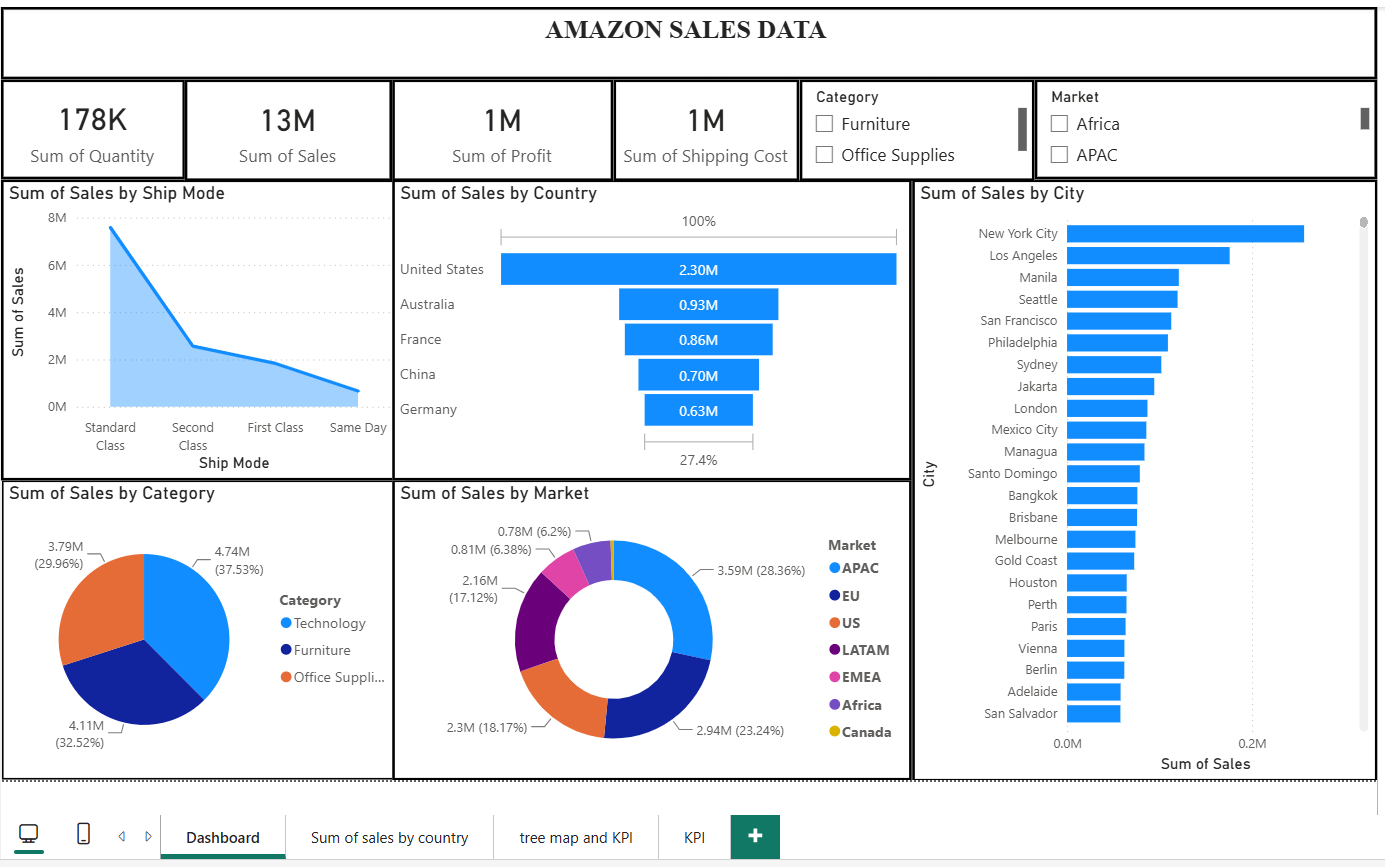

The page's visual inventory and layout, read from the dashboard file:
{"tool":"powerbi","page":{"name":"Page 1","canvas":[1280,720],"ordinal":0},"visuals":[{"type":"pieChart","fields":{"Category":["Orders.Category"],"Y":["Sum(Orders.Sales)"]},"box":[0,440,375.7,280],"z":0},{"type":"donutChart","fields":{"Category":["Orders.Market"],"Y":["Sum(Orders.Sales)"]},"box":[364.3,440,482.9,280],"z":1000},{"type":"areaChart","fields":{"Category":["Orders.Ship Mode"],"Y":["Sum(Orders.Sales)"]},"box":[0,160,375.7,280],"z":2000},{"type":"clusteredBarChart","fields":{"Category":["Orders.City"],"Y":["Sum(Orders.Sales)"]},"box":[847.1,160,432.9,560],"z":3000},{"type":"funnel","fields":{"Category":["Orders.Country"],"Y":["Sum(Orders.Sales)"]},"box":[364.3,160,482.9,280],"z":4000},{"type":"textbox","box":[0,0,1280,67.1],"z":5000},{"type":"card","fields":{"Values":["Sum(Orders.Quantity)"]},"box":[0,67.1,171.4,92.9],"z":6000},{"type":"card","fields":{"Values":["Sum(Orders.Sales)"]},"box":[171.4,67.1,192.9,94.3],"z":7000},{"type":"card","fields":{"Values":["Sum(Orders.Profit)"]},"box":[364.3,67.1,205.7,94.3],"z":8000},{"type":"card","fields":{"Values":["Sum(Orders.Shipping Cost)"]},"box":[570,67.1,172.9,94.3],"z":9000},{"type":"slicer","fields":{"Values":["Orders.Market"]},"box":[961.4,67.1,318.6,92.9],"z":10000},{"type":"slicer","fields":{"Values":["Orders.Category"]},"box":[742.9,67.1,218.6,94.3],"z":10001}]}

Visuals, with their boxes in screenshot pixels (x1, y1, x2, y2):
pieChart - Orders.Category x Sum(Orders.Sales): {"x1": 0, "y1": 473, "x2": 401, "y2": 772}
donutChart - Orders.Market x Sum(Orders.Sales): {"x1": 389, "y1": 473, "x2": 904, "y2": 772}
areaChart - Orders.Ship Mode x Sum(Orders.Sales): {"x1": 0, "y1": 174, "x2": 401, "y2": 473}
clusteredBarChart - Orders.City x Sum(Orders.Sales): {"x1": 904, "y1": 174, "x2": 1366, "y2": 772}
funnel - Orders.Country x Sum(Orders.Sales): {"x1": 389, "y1": 174, "x2": 904, "y2": 473}
textbox: {"x1": 0, "y1": 4, "x2": 1366, "y2": 75}
card - Sum(Orders.Quantity): {"x1": 0, "y1": 75, "x2": 183, "y2": 174}
card - Sum(Orders.Sales): {"x1": 183, "y1": 75, "x2": 389, "y2": 176}
card - Sum(Orders.Profit): {"x1": 389, "y1": 75, "x2": 608, "y2": 176}
card - Sum(Orders.Shipping Cost): {"x1": 608, "y1": 75, "x2": 793, "y2": 176}
slicer - Orders.Market: {"x1": 1026, "y1": 75, "x2": 1366, "y2": 174}
slicer - Orders.Category: {"x1": 793, "y1": 75, "x2": 1026, "y2": 176}
